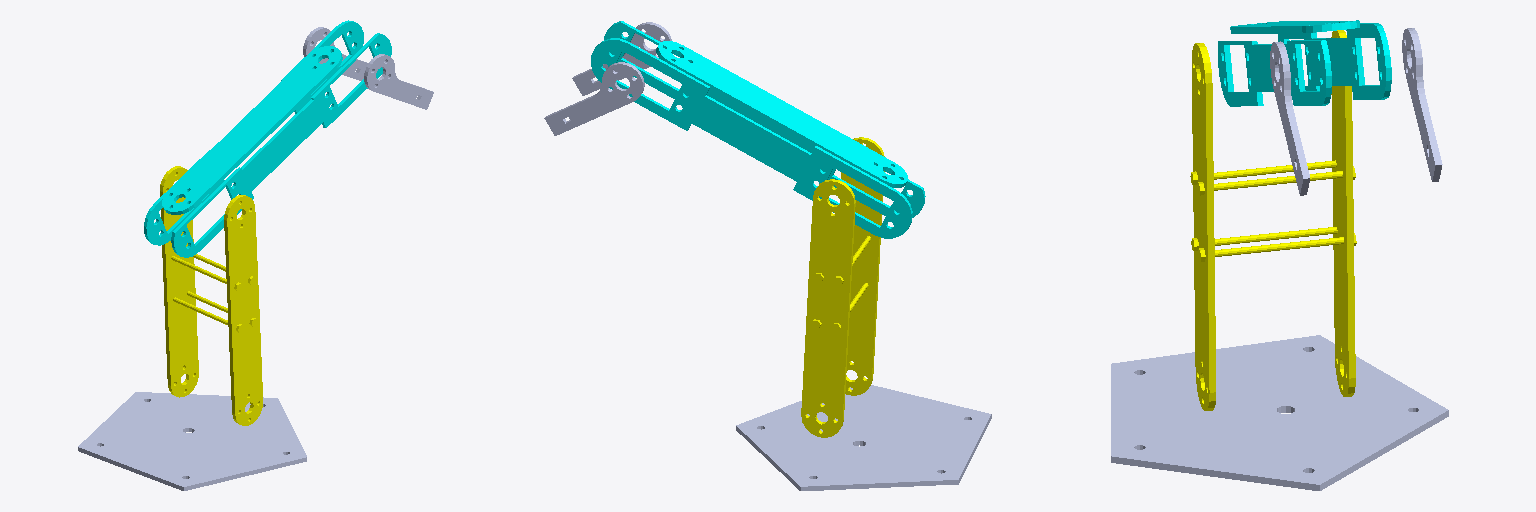
robot.urdf — Brazo Robotico.SLDASM:
<robot
  name="Brazo Robotico.SLDASM">
  <link
    name="base_link">
    <inertial>
      <origin
        xyz="0.090945 0.15717 0.13966"
        rpy="0 0 0" />
      <mass
        value="0.043248" />
      <inertia
        ixx="5.0927E-05"
        ixy="-1.6674E-23"
        ixz="-3.0513E-21"
        iyy="0.0001018"
        iyz="-1.4004E-22"
        izz="5.0942E-05" />
    </inertial>
    <visual>
      <origin
        xyz="0 0 0"
        rpy="0 0 0" />
      <geometry>
        <mesh
          filename="package://Brazo Robotico.SLDASM/meshes/base_link.STL" />
      </geometry>
      <material
        name="">
        <color
          rgba="0.79216 0.81961 0.93333 1" />
      </material>
    </visual>
    <collision>
      <origin
        xyz="0 0 0"
        rpy="0 0 0" />
      <geometry>
        <mesh
          filename="package://Brazo Robotico.SLDASM/meshes/base_link.STL" />
      </geometry>
    </collision>
  </link>
  <link
    name=" link1">
    <inertial>
      <origin
        xyz="0.0305 0.0088975 -0.020204"
        rpy="0 0 0" />
      <mass
        value="0.019155" />
      <inertia
        ixx="8.7903E-06"
        ixy="-1.3487E-10"
        ixz="-6.3527E-21"
        iyy="1.5538E-05"
        iyz="-1.3803E-06"
        izz="1.1421E-05" />
    </inertial>
    <visual>
      <origin
        xyz="0 0 0"
        rpy="0 0 0" />
      <geometry>
        <mesh
          filename="package://Brazo Robotico.SLDASM/meshes/ link1.STL" />
      </geometry>
      <material
        name="">
        <color
          rgba="0.75294 0.75294 0.75294 1" />
      </material>
    </visual>
    <collision>
      <origin
        xyz="0 0 0"
        rpy="0 0 0" />
      <geometry>
        <mesh
          filename="package://Brazo Robotico.SLDASM/meshes/ link1.STL" />
      </geometry>
    </collision>
  </link>
  <joint
    name="primera rotacion"
    type="revolute">
    <origin
      xyz="0.11396 -0.095001 0.16267"
      rpy="1.5708 -1.4373E-17 -2.9046" />
    <parent
      link="base_link" />
    <child
      link=" link1" />
    <axis
      xyz="0 0 -1" />
    <limit
      effort="0"
      velocity="0" />
  </joint>
  <link
    name="link2">
    <inertial>
      <origin
        xyz="1.7498E-13 -0.03655 0.070393"
        rpy="0 0 0" />
      <mass
        value="0.024964" />
      <inertia
        ixx="6.8484E-05"
        ixy="7.0388E-19"
        ixz="-1.1004E-16"
        iyy="4.8155E-05"
        iyz="-1.8201E-19"
        izz="2.2861E-05" />
    </inertial>
    <visual>
      <origin
        xyz="0 0 0"
        rpy="0 0 0" />
      <geometry>
        <mesh
          filename="package://Brazo Robotico.SLDASM/meshes/link2.STL" />
      </geometry>
      <material
        name="">
        <color
          rgba="1 1 0 1" />
      </material>
    </visual>
    <collision>
      <origin
        xyz="0 0 0"
        rpy="0 0 0" />
      <geometry>
        <mesh
          filename="package://Brazo Robotico.SLDASM/meshes/link2.STL" />
      </geometry>
    </collision>
  </link>
  <joint
    name="j1"
    type="revolute">
    <origin
      xyz="0.0146 0.0205 0"
      rpy="1.5708 -2.9698E-15 -2.9101" />
    <parent
      link=" link1" />
    <child
      link="link2" />
    <axis
      xyz="0 -1 0" />
    <limit
      effort="0"
      velocity="0" />
  </joint>
  <link
    name="link3">
    <inertial>
      <origin
        xyz="0.056755 0.035129 -0.0054655"
        rpy="0 0 0" />
      <mass
        value="0.029564" />
      <inertia
        ixx="7.0409E-06"
        ixy="9.7992E-08"
        ixz="-1.0106E-06"
        iyy="8.6799E-05"
        iyz="-6.6761E-08"
        izz="8.6975E-05" />
    </inertial>
    <visual>
      <origin
        xyz="0 0 0"
        rpy="0 0 0" />
      <geometry>
        <mesh
          filename="package://Brazo Robotico.SLDASM/meshes/link3.STL" />
      </geometry>
      <material
        name="">
        <color
          rgba="0 1 1 1" />
      </material>
    </visual>
    <collision>
      <origin
        xyz="0 0 0"
        rpy="0 0 0" />
      <geometry>
        <mesh
          filename="package://Brazo Robotico.SLDASM/meshes/link3.STL" />
      </geometry>
    </collision>
  </link>
  <joint
    name="j2"
    type="revolute">
    <origin
      xyz="0 0 0.14"
      rpy="3.1416 -0.93185 4.9195E-14" />
    <parent
      link="link2" />
    <child
      link="link3" />
    <axis
      xyz="0 1 0" />
    <limit
      effort="0"
      velocity="0" />
  </joint>
  <link
    name="link 4">
    <inertial>
      <origin
        xyz="-0.018818 -0.035 0.0037361"
        rpy="0 0 0" />
      <mass
        value="0.0057062" />
      <inertia
        ixx="4.8474E-06"
        ixy="-2.0858E-20"
        ixz="2.682E-07"
        iyy="2.3034E-06"
        iyz="8.285E-21"
        izz="6.7343E-06" />
    </inertial>
    <visual>
      <origin
        xyz="0 0 0"
        rpy="0 0 0" />
      <geometry>
        <mesh
          filename="package://Brazo Robotico.SLDASM/meshes/link 4.STL" />
      </geometry>
      <material
        name="">
        <color
          rgba="0.79216 0.81961 0.93333 1" />
      </material>
    </visual>
    <collision>
      <origin
        xyz="0 0 0"
        rpy="0 0 0" />
      <geometry>
        <mesh
          filename="package://Brazo Robotico.SLDASM/meshes/link 4.STL" />
      </geometry>
    </collision>
  </link>
  <joint
    name="j3"
    type="revolute">
    <origin
      xyz="0.14 0 0"
      rpy="1.8459E-14 1.24 -3.1416" />
    <parent
      link="link3" />
    <child
      link="link 4" />
    <axis
      xyz="0 -1 0" />
    <limit
      effort="0"
      velocity="0" />
  </joint>
</robot>

--- Facts derived from the render (not from the file) ---
Views: 3 orthographic renders of the robot side by side, from view 1: azimuth 30°, elevation 25°; view 2: azimuth 150°, elevation 25°; view 3: azimuth 270°, elevation 25°.
Robot: Brazo Robotico.SLDASM — 5 links, 4 joints (4 revolute); root link base_link; default pose: every joint at zero.
Visible links, largest first — view 1: link3, base_link, link2, link 4; view 2: link3, base_link, link2, link 4; view 3: base_link, link2, link3, link 4.
Boxes of the visible links, <box> form: link3: <box>144,20,391,257</box>; base_link: <box>78,392,306,490</box>; link2: <box>160,166,262,425</box>; link 4: <box>303,27,433,109</box>; link3: <box>591,21,925,238</box>; base_link: <box>736,385,991,490</box>; link2: <box>801,137,884,437</box>; link 4: <box>544,22,671,135</box>; base_link: <box>1111,335,1448,490</box>; link2: <box>1190,30,1356,410</box>; link3: <box>1218,20,1391,106</box>; link 4: <box>1270,28,1442,195</box>.
Bounding box of the posed robot: 0.2613 × 0.1416 × 0.245 m (x, y, z).
Meshes: 5 distinct files referenced, 4 mesh visuals loaded (4 binary STL); not drawn: 1 (reference not matched to a file when rendering).
